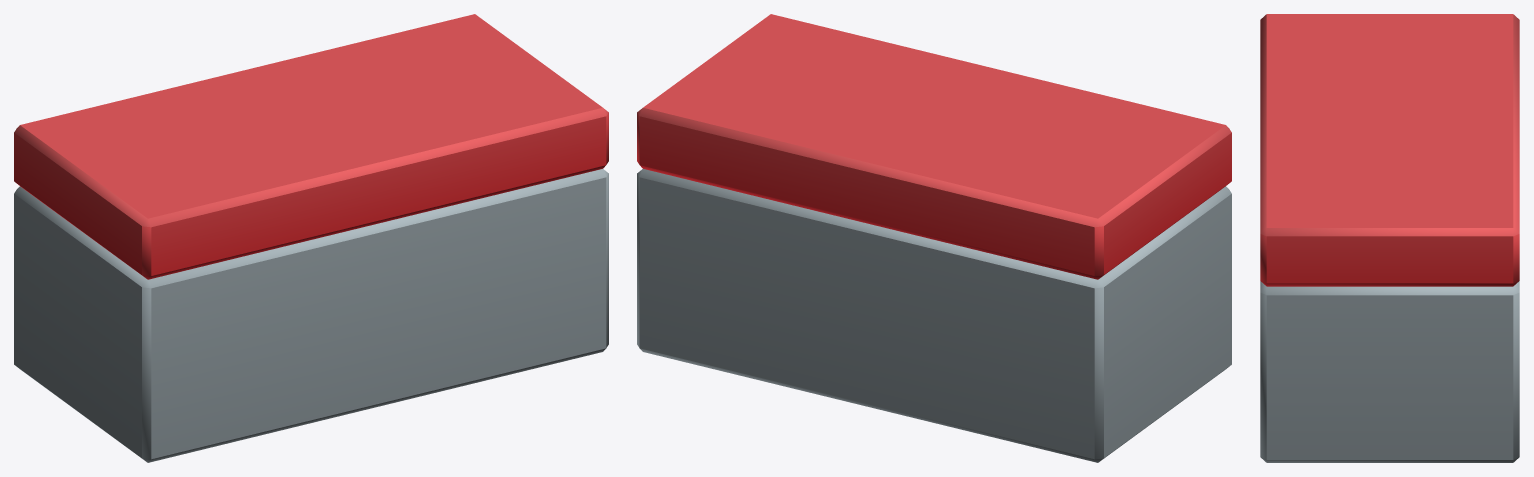
File: kaykit_platform_4x2x2_red.glb
3 renders of one model, left to right at view 1: azimuth 30°, elevation 25°; view 2: azimuth 150°, elevation 25°; view 3: azimuth 270°, elevation 25°, orthographic. The views are drawn at different scales.
Parts seen in each view (by area): view 1: platform_4x2x2_red_visual; view 2: platform_4x2x2_red_visual; view 3: platform_4x2x2_red_visual.
Part boxes in pixels (<box>): platform_4x2x2_red_visual: <box>14,14,608,462</box>; platform_4x2x2_red_visual: <box>637,14,1231,462</box>; platform_4x2x2_red_visual: <box>1260,14,1519,462</box>.
Size of what is drawn, in the model's own units: 4 by 2 by 2.
1 material, 1 textured.
